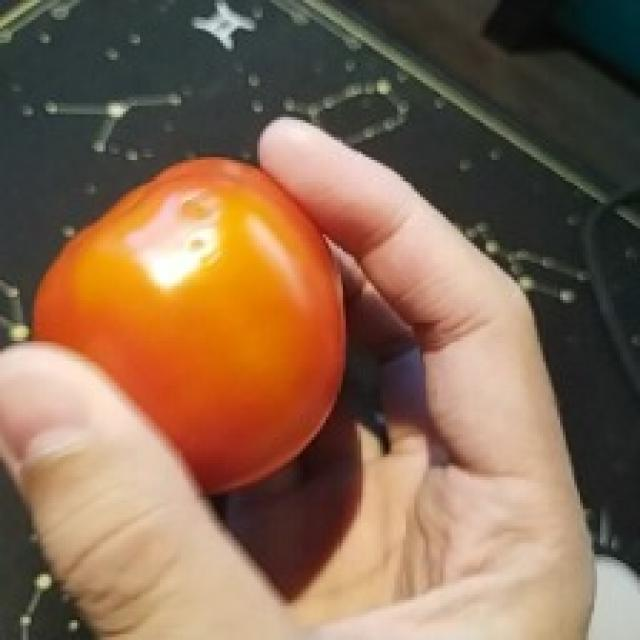Fresh Tomato: (12, 126, 376, 505)
